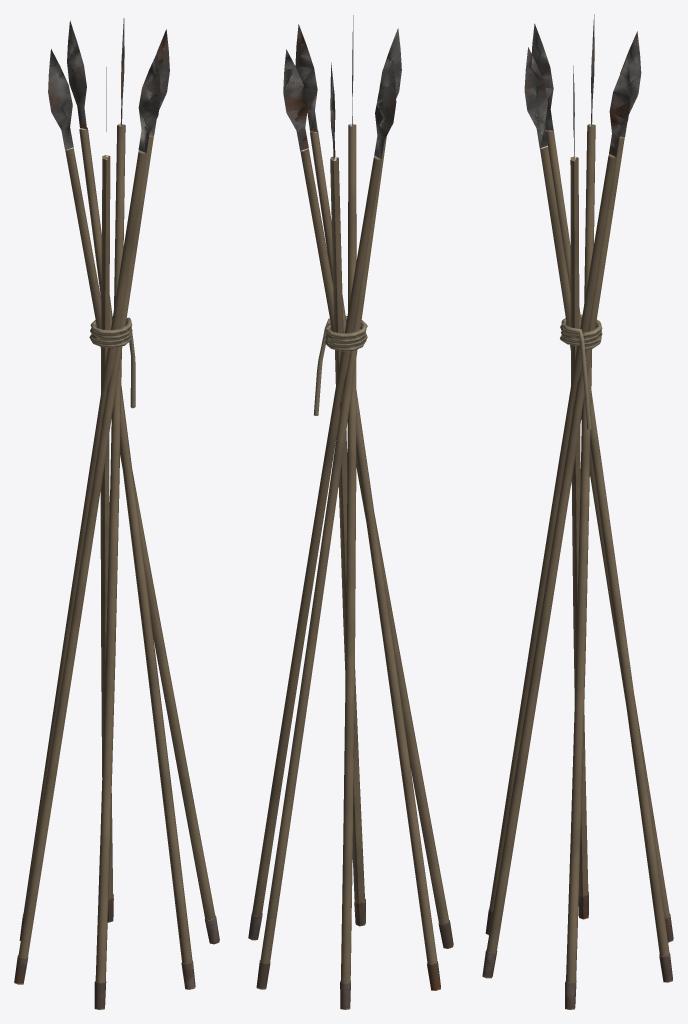
The model's file is SM_Camp_SpearStook.fbx.
3 views of the same model, side by side, from view 1: azimuth 30°, elevation 25°; view 2: azimuth 150°, elevation 25°; view 3: azimuth 270°, elevation 25° (orthographic).
Visible parts, largest first — view 1: SM_Camp_SpearStook; view 2: SM_Camp_SpearStook; view 3: SM_Camp_SpearStook.
Boxes of the visible parts, left/top/right/bottom form: SM_Camp_SpearStook: left=14, top=18, right=219, bottom=1009; SM_Camp_SpearStook: left=248, top=15, right=453, bottom=1009; SM_Camp_SpearStook: left=482, top=14, right=673, bottom=1009.
Bounding box in the file's own units: 57.51 × 48.04 × 256.
